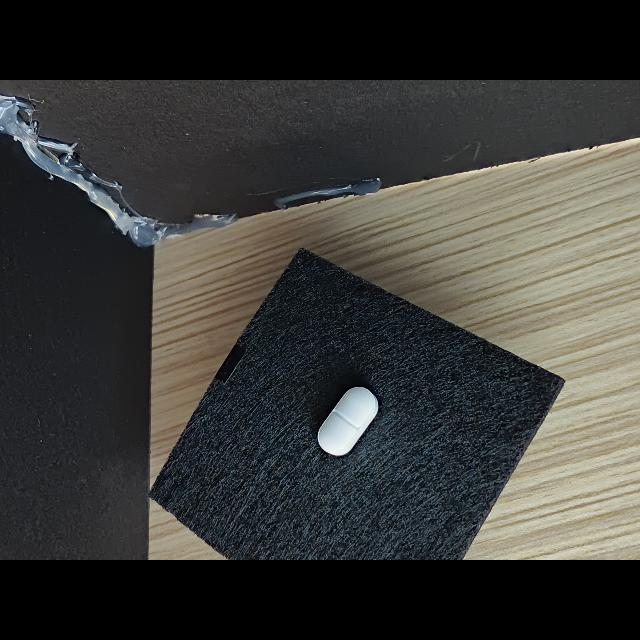Intact Pill: (318, 387, 379, 455)
